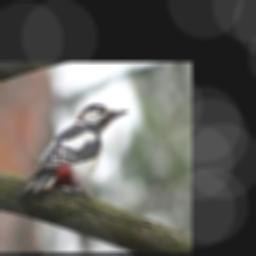Woodpecker: (24, 104, 130, 200)
